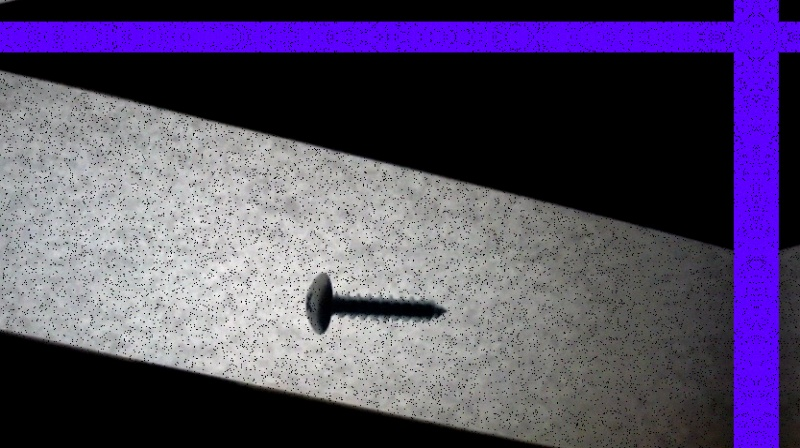S003: (301, 270, 452, 337)
